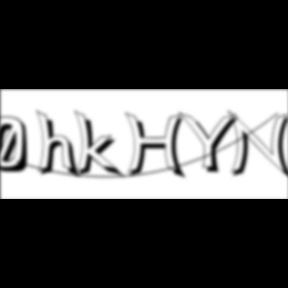0: (0, 115, 36, 174)
H: (125, 112, 191, 182)
Y: (178, 110, 244, 176)
h: (36, 108, 84, 182)
k: (74, 108, 126, 181)
